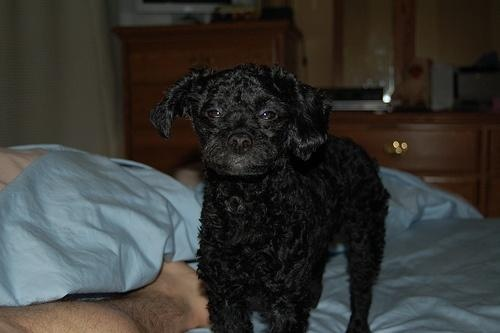dog: (151, 64, 387, 333)
